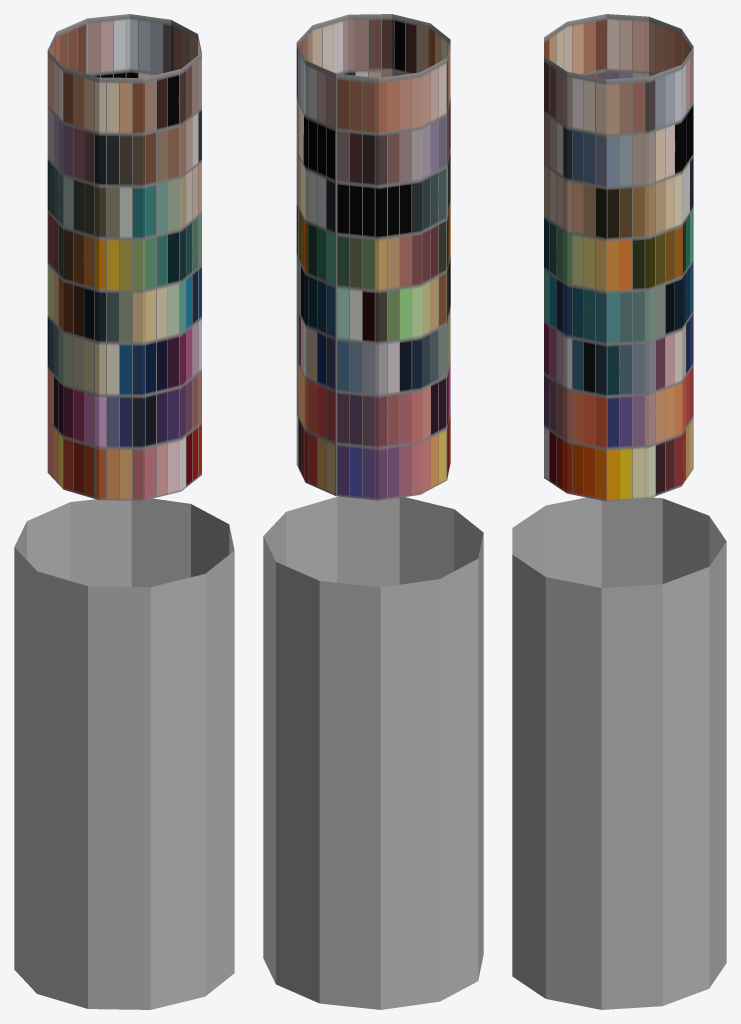
Rendered from hot_dog.obj.
The picture shows the model from 3 angles, left to right: view 1: azimuth 30°, elevation 25°; view 2: azimuth 150°, elevation 25°; view 3: azimuth 270°, elevation 25°; orthographic projection.
Parts seen in each view (by area): view 1: Cylinder_Mesh, Cylinder.002_Mesh; view 2: Cylinder_Mesh, Cylinder.002_Mesh; view 3: Cylinder_Mesh, Cylinder.002_Mesh.
Part boxes in pixels (x1,y1,x2,y2): Cylinder_Mesh: [14, 498, 234, 1009]; Cylinder.002_Mesh: [47, 14, 201, 500]; Cylinder_Mesh: [263, 496, 483, 1009]; Cylinder.002_Mesh: [296, 14, 450, 500]; Cylinder_Mesh: [512, 497, 726, 1009]; Cylinder.002_Mesh: [544, 14, 693, 501].
Size of the model in its own units: 0.871 by 3.98 by 0.8426.
